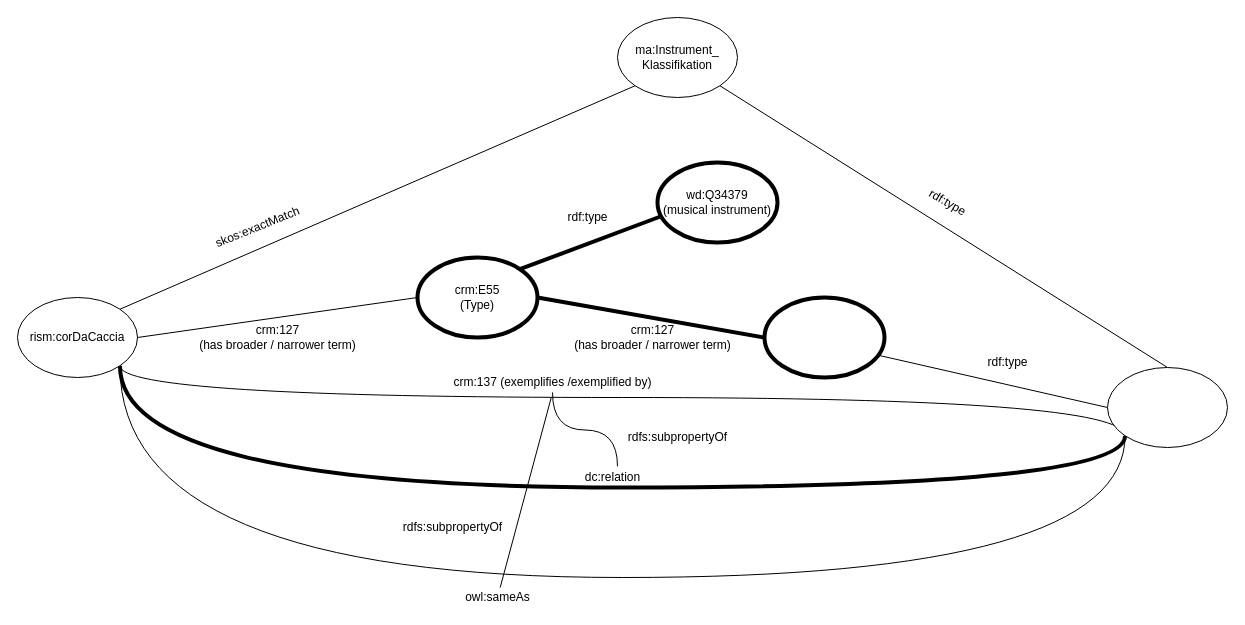
Image size: 1245x625. Some labels were removed from this diagram. Each missing label, with the centre of its shape:
"crm:E19 (physical object)" goes at (824,337).
"ma:MIMUL_1663" goes at (1167,407).
